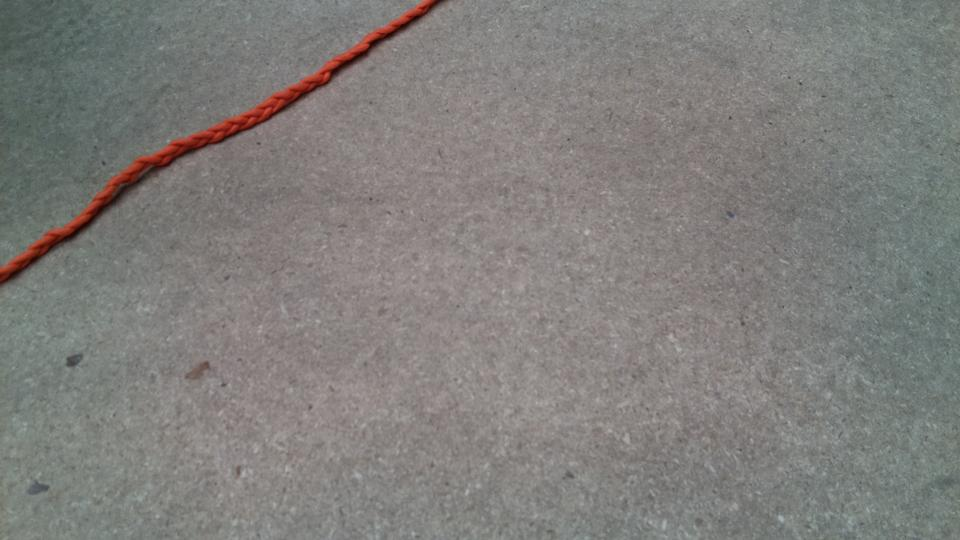rope: (1, 1, 421, 271)
